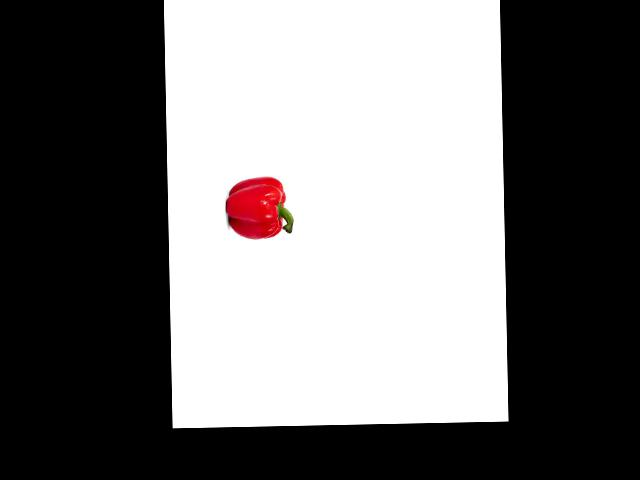bell_pepper: (225, 172, 295, 241)
